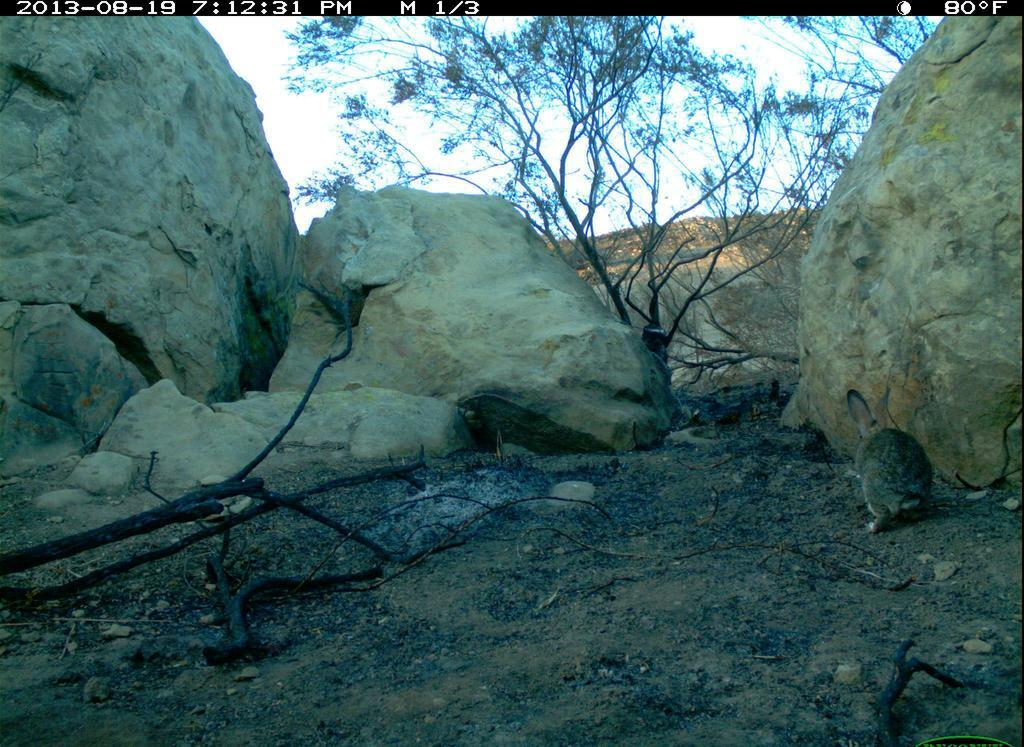rabbit: (825, 383, 955, 552)
